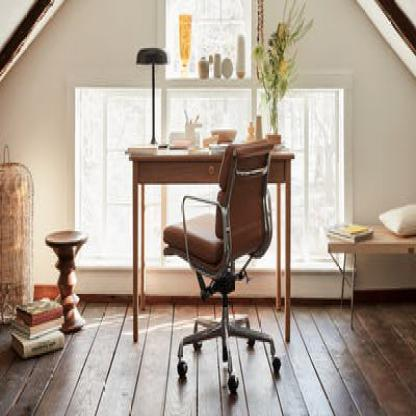chair: (170, 132, 289, 410)
light: (130, 40, 171, 148)
table: (120, 130, 295, 343), (319, 205, 416, 350), (42, 224, 94, 339)
